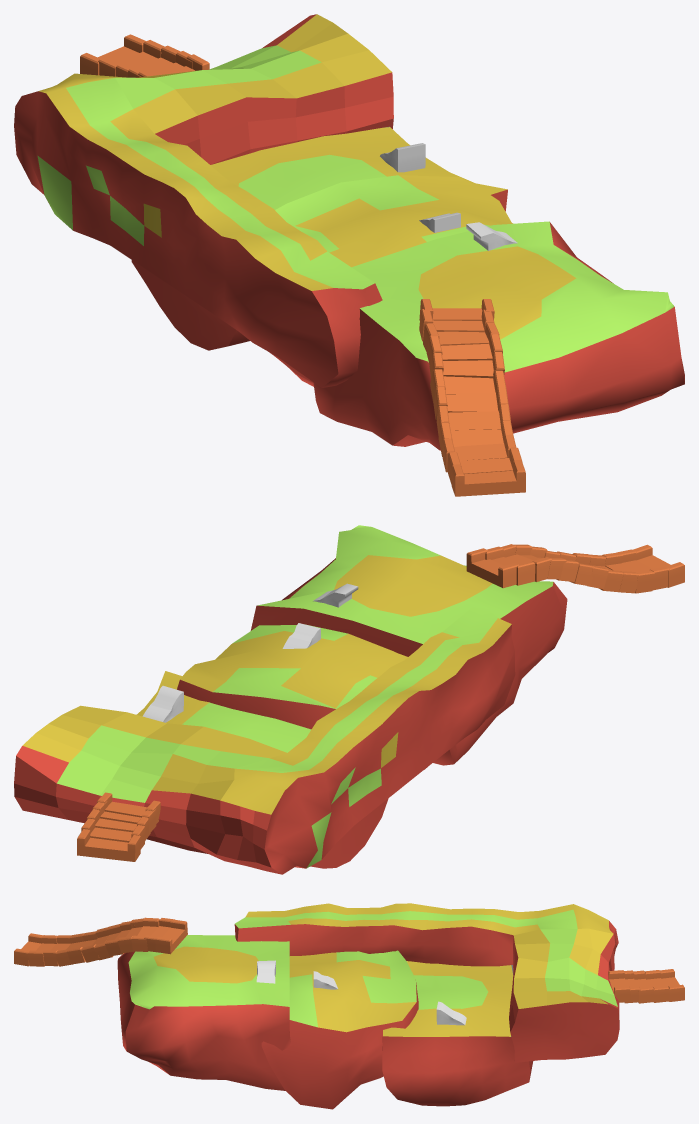
The model's file is MSH_Level.fbx.
3 renders of one model, top to bottom at view 1: azimuth 30°, elevation 25°; view 2: azimuth 150°, elevation 25°; view 3: azimuth 270°, elevation 25°, orthographic. The views are drawn at different scales.
Visible parts, largest first — view 1: PB_LB_Rock14, PB_LB_Rock1, PB_LB_Rock2, PB_LB_Rock3, PB_LB_Bridge1, PB_LB_Bridge6, PB_LB_Bridge5, PB_LB_Bridge8, PB_LB_Bridge7, PB_LB_Bridge9, PB_LB_Bridge4, PB_LB_Bridge3 (+8 smaller); view 2: PB_LB_Rock14, PB_LB_Rock1, PB_LB_Rock2, PB_LB_Rock3, PB_LB_Bridge015, PB_LB_Bridge12, PB_LB_Plataform2, PB_LB_Bridge1, PB_LB_Bridge016, PB_LB_Bridge11, PB_LB_Bridge3, PB_LB_Bridge013 (+9 smaller); view 3: PB_LB_Rock14, PB_LB_Rock1, PB_LB_Rock2, PB_LB_Rock3, PB_LB_Bridge12, PB_LB_Bridge10, PB_LB_Bridge013, PB_LB_Bridge016, PB_LB_Plataform2, PB_LB_Bridge2, PB_LB_Bridge015, PB_LB_Bridge1 (+11 smaller).
Part boxes in pixels (box(x1,y1,x2,y2)): PB_LB_Rock14: box(14, 14, 393, 387); PB_LB_Rock1: box(313, 221, 684, 450); PB_LB_Rock2: box(269, 175, 512, 386); PB_LB_Rock3: box(131, 126, 507, 350); PB_LB_Bridge1: box(451, 460, 525, 496); PB_LB_Bridge6: box(433, 386, 508, 419); PB_LB_Bridge5: box(436, 404, 510, 437); PB_LB_Bridge8: box(429, 352, 504, 378); PB_LB_Bridge7: box(430, 369, 505, 402); PB_LB_Bridge9: box(426, 334, 502, 365); PB_LB_Bridge4: box(438, 420, 513, 456); PB_LB_Bridge3: box(442, 434, 516, 472); PB_LB_Rock14: box(14, 607, 515, 874); PB_LB_Rock1: box(250, 525, 567, 765); PB_LB_Rock2: box(177, 624, 427, 769); PB_LB_Rock3: box(136, 671, 388, 868); PB_LB_Bridge015: box(77, 829, 140, 861); PB_LB_Bridge12: box(466, 548, 518, 588); PB_LB_Plataform2: box(142, 685, 183, 722); PB_LB_Bridge1: box(632, 544, 684, 587); PB_LB_Bridge016: box(81, 818, 145, 849); PB_LB_Bridge11: box(485, 546, 535, 585); PB_LB_Bridge3: box(602, 552, 654, 593); PB_LB_Bridge013: box(97, 792, 160, 823); PB_LB_Rock14: box(234, 903, 619, 1062); PB_LB_Rock1: box(117, 935, 291, 1090); PB_LB_Rock2: box(261, 950, 418, 1109); PB_LB_Rock3: box(382, 961, 533, 1106); PB_LB_Bridge12: box(155, 919, 187, 954); PB_LB_Bridge10: box(131, 917, 159, 951); PB_LB_Bridge013: box(608, 970, 630, 1002); PB_LB_Bridge016: box(644, 970, 669, 1002); PB_LB_Plataform2: box(436, 1001, 466, 1025); PB_LB_Bridge2: box(28, 935, 57, 966); PB_LB_Bridge015: box(659, 969, 684, 1001); PB_LB_Bridge1: box(14, 933, 43, 966).
Size of the model in its own units: 19.63 by 10.39 by 53.18.
